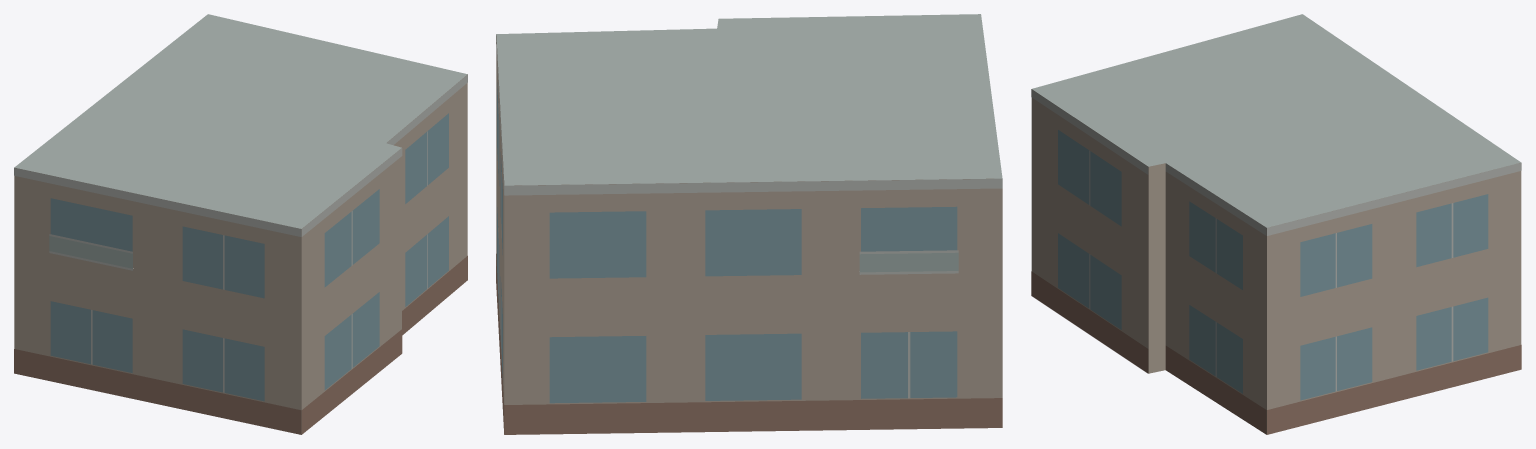
File: survey-upis-32675734.glb
The picture shows the model from 3 angles, left to right: view 1: azimuth 30°, elevation 25°; view 2: azimuth 150°, elevation 25°; view 3: azimuth 270°, elevation 25°; orthographic projection. The views are drawn at different scales.
Visible parts, largest first — view 1: survey-upis-32675734.tmp; view 2: survey-upis-32675734.tmp; view 3: survey-upis-32675734.tmp.
Part boxes in pixels (x1,y1,x2,y2): survey-upis-32675734.tmp: (14, 14, 467, 434); survey-upis-32675734.tmp: (496, 14, 1002, 434); survey-upis-32675734.tmp: (1031, 14, 1521, 434).
Bounding box in the file's own units: 13.52 × 6.1 × 13.09.
